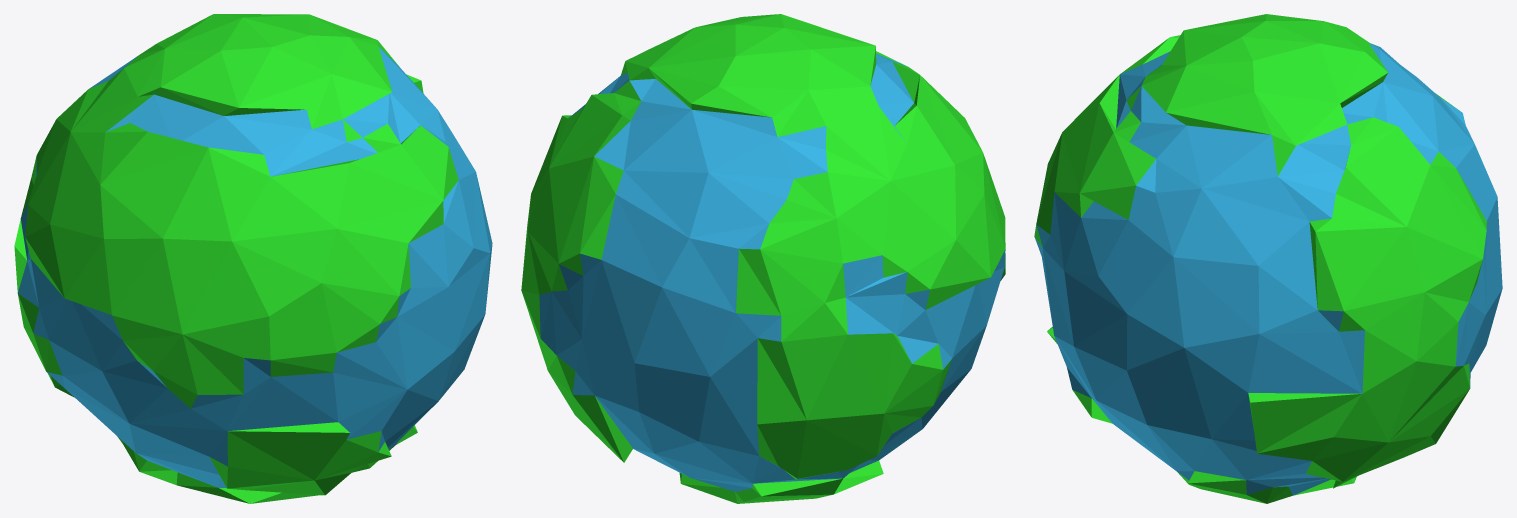
File: earth.gltf
3 views of the same model, side by side, from view 1: azimuth 30°, elevation 25°; view 2: azimuth 150°, elevation 25°; view 3: azimuth 270°, elevation 25° (orthographic).
Visible parts, largest first — view 1: Sphere; view 2: Sphere; view 3: Sphere.
Boxes of the visible parts, x1=… form: Sphere: x1=14, y1=14, x2=492, y2=503; Sphere: x1=521, y1=14, x2=1005, y2=503; Sphere: x1=1034, y1=14, x2=1502, y2=503.
Bounding box in the file's own units: 2.09 × 2.11 × 2.03.
